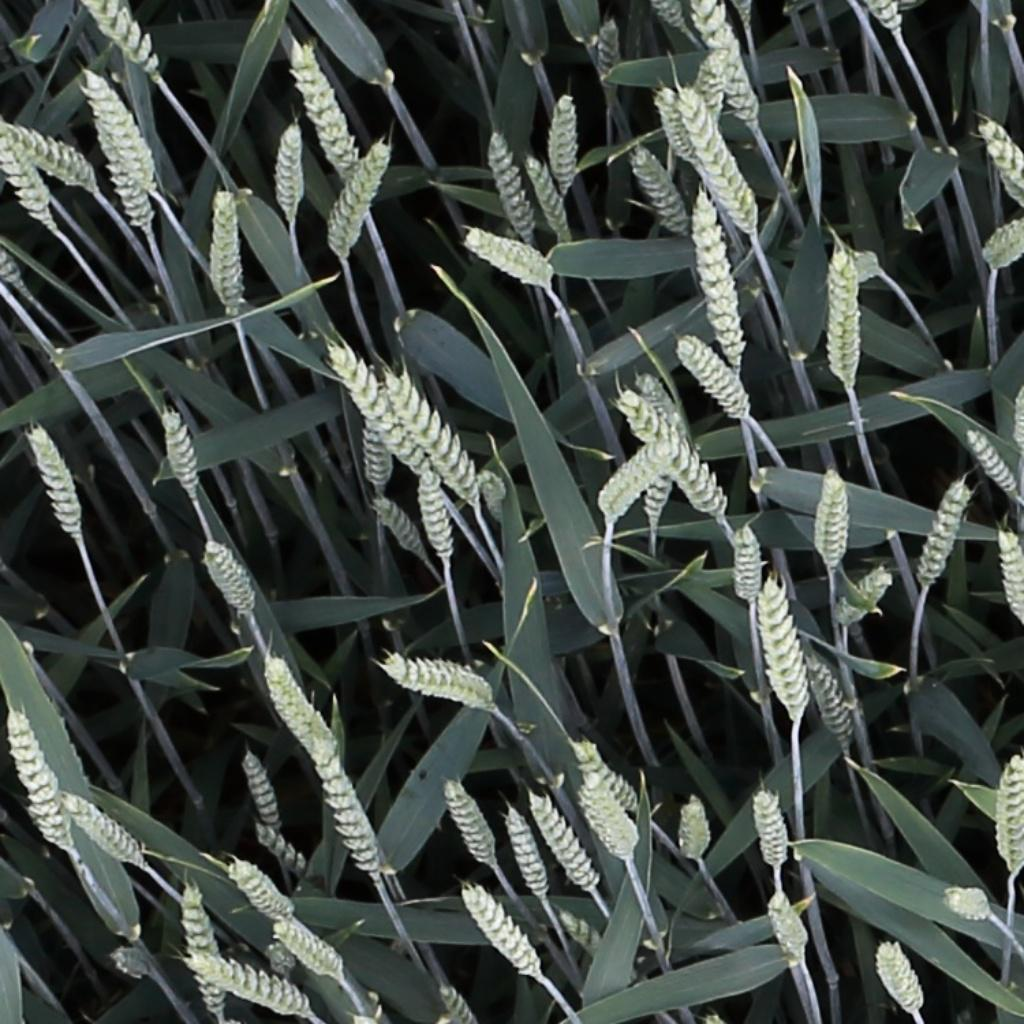0-0: (615, 373, 737, 513), (327, 344, 432, 483), (386, 370, 486, 510), (674, 96, 761, 253), (308, 735, 387, 883), (286, 34, 360, 181), (182, 947, 322, 1024), (682, 1, 769, 121), (693, 182, 746, 375), (4, 704, 72, 854), (80, 64, 159, 193), (460, 882, 548, 984), (558, 906, 658, 994), (628, 374, 687, 523), (381, 647, 502, 719), (329, 135, 394, 258), (528, 791, 603, 895), (592, 438, 678, 526), (25, 420, 86, 540), (464, 228, 566, 298), (5, 112, 95, 191), (678, 331, 755, 421), (761, 576, 808, 720), (916, 476, 974, 591), (174, 874, 219, 1021), (484, 125, 539, 243), (632, 140, 696, 240), (0, 118, 50, 245), (64, 794, 146, 871), (264, 658, 326, 757), (86, 1, 163, 80), (442, 775, 502, 873), (574, 731, 646, 810), (97, 124, 153, 222), (587, 784, 644, 879), (521, 147, 576, 244), (823, 244, 860, 387), (205, 191, 250, 307), (503, 804, 554, 906), (225, 853, 295, 920), (962, 427, 1022, 505), (200, 537, 258, 615), (988, 754, 1024, 878), (370, 491, 432, 562), (808, 658, 857, 746), (812, 466, 854, 568), (238, 748, 285, 839), (877, 936, 929, 1018), (275, 920, 346, 979), (159, 404, 203, 499), (979, 114, 1024, 206), (251, 823, 316, 886), (648, 84, 696, 169), (835, 565, 897, 630), (420, 462, 456, 567), (672, 792, 720, 869), (768, 886, 813, 968), (749, 786, 789, 877), (807, 233, 881, 278), (995, 524, 1024, 626), (363, 402, 391, 501), (278, 114, 303, 223), (697, 42, 730, 120), (982, 218, 1024, 279), (552, 90, 577, 192), (476, 462, 512, 529), (592, 13, 624, 87), (735, 521, 761, 610), (941, 876, 992, 920), (100, 941, 156, 981), (435, 977, 479, 1024), (862, 0, 912, 39), (653, 0, 693, 35), (0, 249, 31, 293), (734, 1, 760, 36)
